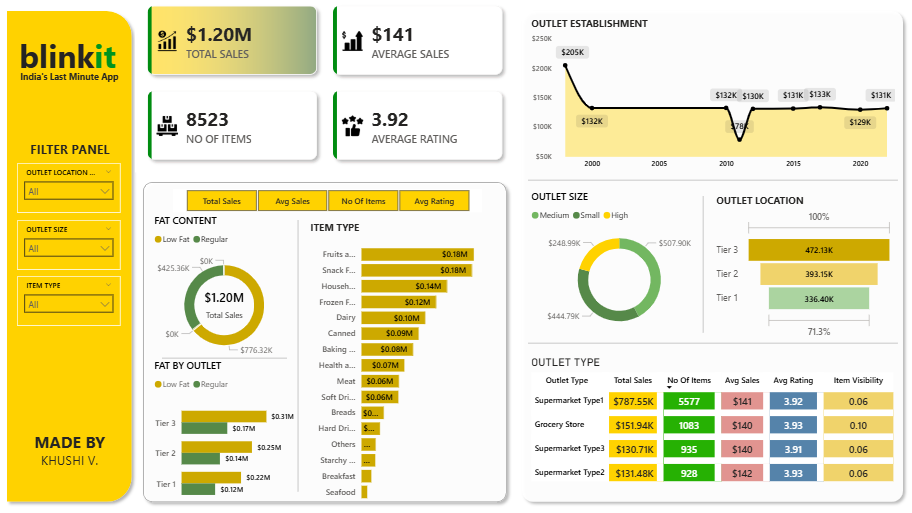

Layout of this report page (visuals, bound fields, positions):
{"tool":"powerbi","page":{"name":"Page 1","canvas":[1400,800],"ordinal":0},"visuals":[{"type":"shape","box":[16.5,18.4,205.8,757],"z":0},{"type":"textbox","box":[38.6,55.1,156.2,82.7],"z":1000},{"type":"textbox","box":[16.5,112.1,205.8,51.4],"z":2000},{"type":"cardVisual","fields":{"Data":["BlinkIT Grocery Data - BlinkIT Grocery Data.Total Sales","BlinkIT Grocery Data - BlinkIT Grocery Data.Average Sales","BlinkIT Grocery Data - BlinkIT Grocery Data.No Of Items","BlinkIT Grocery Data - BlinkIT Grocery Data.Average Rating"]},"box":[218.6,0,573.2,270.1],"z":3000},{"type":"shape","box":[222,275.3,565.3,500],"z":4000},{"type":"donutChart","title":"FAT CONTENT","fields":{"Y":["BlinkIT Grocery Data - BlinkIT Grocery Data.Total Sales","BlinkIT Grocery Data - BlinkIT Grocery Data.Avg Sales","BlinkIT Grocery Data - BlinkIT Grocery Data.No Of Items","BlinkIT Grocery Data - BlinkIT Grocery Data.Avg Rating"],"Category":["BlinkIT Grocery Data - BlinkIT Grocery Data.Item Fat Content"]},"box":[242.5,330.7,220.5,229.7],"z":5000},{"type":"slicer","fields":{"Values":["Matrics.Matrix"]},"box":[275.6,295.8,464.8,35],"z":6000},{"type":"card","fields":{"Values":["BlinkIT Grocery Data - BlinkIT Grocery Data.Total Sales"]},"box":[299.5,433.6,106.6,68],"z":7000},{"type":"clusteredBarChart","title":"FAT BY OUTLET","fields":{"Y":["BlinkIT Grocery Data - BlinkIT Grocery Data.Total Sales"],"Category":["BlinkIT Grocery Data - BlinkIT Grocery Data.Outlet Location Type"],"Series":["BlinkIT Grocery Data - BlinkIT Grocery Data.Item Fat Content"]},"box":[242.5,549.3,220.5,231.5],"z":8000},{"type":"shape","box":[259.2,423.1,188.1,253.5],"z":9000},{"type":"shape","box":[353.8,341.2,220,408.8],"z":10000},{"type":"barChart","title":"ITEM TYPE","fields":{"Y":["BlinkIT Grocery Data - BlinkIT Grocery Data.Total Sales","BlinkIT Grocery Data - BlinkIT Grocery Data.Avg Sales","BlinkIT Grocery Data - BlinkIT Grocery Data.No Of Items","BlinkIT Grocery Data - BlinkIT Grocery Data.Avg Rating"],"Category":["BlinkIT Grocery Data - BlinkIT Grocery Data.Item Type"]},"box":[477.7,341.7,275.6,433.6],"z":11000},{"type":"shape","box":[791.9,18.4,591.6,757],"z":12000},{"type":"lineChart","title":"OUTLET ESTABLISHMENT","fields":{"Y":["BlinkIT Grocery Data - BlinkIT Grocery Data.Total Sales"],"Category":["BlinkIT Grocery Data - BlinkIT Grocery Data.Outlet Establishment Year"]},"box":[810,35,557.5,240],"z":13000},{"type":"shape","box":[810.2,154.3,556.7,253.5],"z":14000},{"type":"donutChart","title":"OUTLET SIZE","fields":{"Category":["BlinkIT Grocery Data - BlinkIT Grocery Data.Outlet Size"],"Y":["BlinkIT Grocery Data - BlinkIT Grocery Data.Total Sales"]},"box":[810.2,295.8,275,225],"z":15000},{"type":"funnel","title":"OUTLET LOCATION","fields":{"Category":["BlinkIT Grocery Data - BlinkIT Grocery Data.Outlet Location Type"],"Y":["Sum(BlinkIT Grocery Data - BlinkIT Grocery Data.Sales)"]},"box":[1087.7,301.3,275.6,224.1],"z":16000},{"type":"shape","box":[810.2,400.5,556.7,253.5],"z":17000},{"type":"pivotTable","title":"OUTLET TYPE","fields":{"Rows":["BlinkIT Grocery Data - BlinkIT Grocery Data.Outlet Type"],"Values":["BlinkIT Grocery Data - BlinkIT Grocery Data.Total Sales","BlinkIT Grocery Data - BlinkIT Grocery Data.No Of Items","BlinkIT Grocery Data - BlinkIT Grocery Data.Avg Sales","BlinkIT Grocery Data - BlinkIT Grocery Data.Avg Rating","Avg(BlinkIT Grocery Data - BlinkIT Grocery Data.Item Visibility)"]},"box":[810.2,545.7,573.2,216.8],"z":18000},{"type":"shape","box":[962.7,305,220.5,205.8],"z":19000},{"type":"slicer","fields":{"Values":["BlinkIT Grocery Data - BlinkIT Grocery Data.Outlet Location Type"]},"box":[40.4,255.4,156.2,75.3],"z":20000},{"type":"slicer","fields":{"Values":["BlinkIT Grocery Data - BlinkIT Grocery Data.Outlet Size"]},"box":[40.4,341.7,156.2,75.3],"z":21000},{"type":"slicer","fields":{"Values":["BlinkIT Grocery Data - BlinkIT Grocery Data.Outlet Location Type","BlinkIT Grocery Data - BlinkIT Grocery Data.Item Type"]},"box":[40.4,426.2,156.2,75.3],"z":22000},{"type":"textbox","box":[40.4,216.8,159.8,38.6],"z":23000},{"type":"textbox","box":[47.8,654.1,143.3,77.2],"z":24000}]}

Visuals, with their boxes in screenshot pixels (x1, y1, x2, y2), scaled from the page's 1400x800 canvas onto the 912x513 screenshot:
shape: x1=11 y1=12 x2=145 y2=497
textbox: x1=25 y1=35 x2=127 y2=88
textbox: x1=11 y1=72 x2=145 y2=105
cardVisual - BlinkIT Grocery Data - BlinkIT Grocery Data.Total Sales x BlinkIT Grocery Data - BlinkIT Grocery Data.Average Sales: x1=142 y1=0 x2=516 y2=173
shape: x1=145 y1=177 x2=513 y2=497
"FAT CONTENT" donutChart: x1=158 y1=212 x2=302 y2=359
slicer - Matrics.Matrix: x1=180 y1=190 x2=482 y2=212
card - BlinkIT Grocery Data - BlinkIT Grocery Data.Total Sales: x1=195 y1=278 x2=265 y2=322
"FAT BY OUTLET" clusteredBarChart: x1=158 y1=352 x2=302 y2=501
shape: x1=169 y1=271 x2=291 y2=434
shape: x1=230 y1=219 x2=374 y2=481
"ITEM TYPE" barChart: x1=311 y1=219 x2=491 y2=497
shape: x1=516 y1=12 x2=901 y2=497
"OUTLET ESTABLISHMENT" lineChart: x1=528 y1=22 x2=891 y2=176
shape: x1=528 y1=99 x2=890 y2=262
"OUTLET SIZE" donutChart: x1=528 y1=190 x2=707 y2=334
"OUTLET LOCATION" funnel: x1=709 y1=193 x2=888 y2=337
shape: x1=528 y1=257 x2=890 y2=419
"OUTLET TYPE" pivotTable: x1=528 y1=350 x2=901 y2=489
shape: x1=627 y1=196 x2=771 y2=328
slicer - BlinkIT Grocery Data - BlinkIT Grocery Data.Outlet Location Type: x1=26 y1=164 x2=128 y2=212
slicer - BlinkIT Grocery Data - BlinkIT Grocery Data.Outlet Size: x1=26 y1=219 x2=128 y2=267
slicer - BlinkIT Grocery Data - BlinkIT Grocery Data.Outlet Location Type x BlinkIT Grocery Data - BlinkIT Grocery Data.Item Type: x1=26 y1=273 x2=128 y2=322
textbox: x1=26 y1=139 x2=130 y2=164
textbox: x1=31 y1=419 x2=124 y2=469
